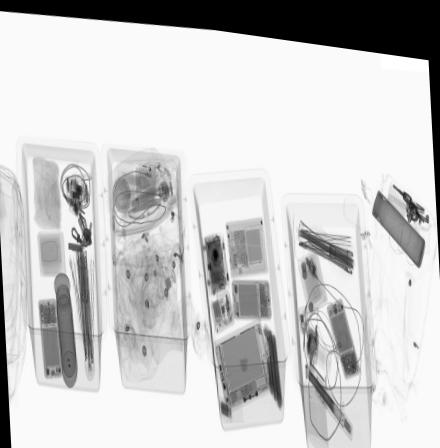Powerbank: (264, 313, 281, 400)
